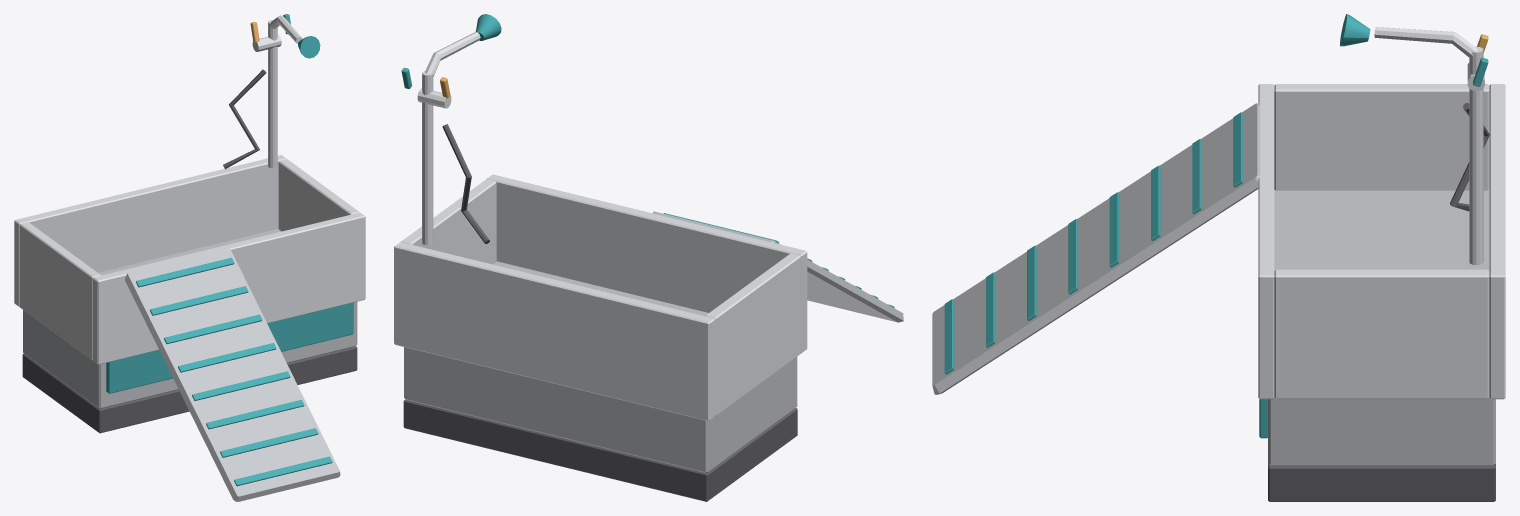
File: pet-shop-and-grooming-salon-dog-bath-tub-f17b5157__34592.glb
The picture shows the model from 3 angles, left to right: view 1: azimuth 30°, elevation 25°; view 2: azimuth 150°, elevation 25°; view 3: azimuth 270°, elevation 25°; orthographic projection. The views are drawn at different scales.
Parts seen in each view (by area): view 1: dog-bath-tub, shower-arm/accent; view 2: dog-bath-tub, shower-arm/metal; view 3: dog-bath-tub, shower-arm/metal, shower-arm/accent.
Part boxes in pixels (bbox=[...]): dog-bath-tub: bbox=[14, 14, 365, 501]; shower-arm/accent: bbox=[298, 36, 320, 58]; dog-bath-tub: bbox=[394, 67, 903, 501]; shower-arm/metal: bbox=[425, 32, 480, 76]; dog-bath-tub: bbox=[932, 34, 1505, 501]; shower-arm/metal: bbox=[1374, 27, 1478, 58]; shower-arm/accent: bbox=[1340, 14, 1370, 46].
Size of the model in its own units: 1.4 by 1.6 by 1.76.
